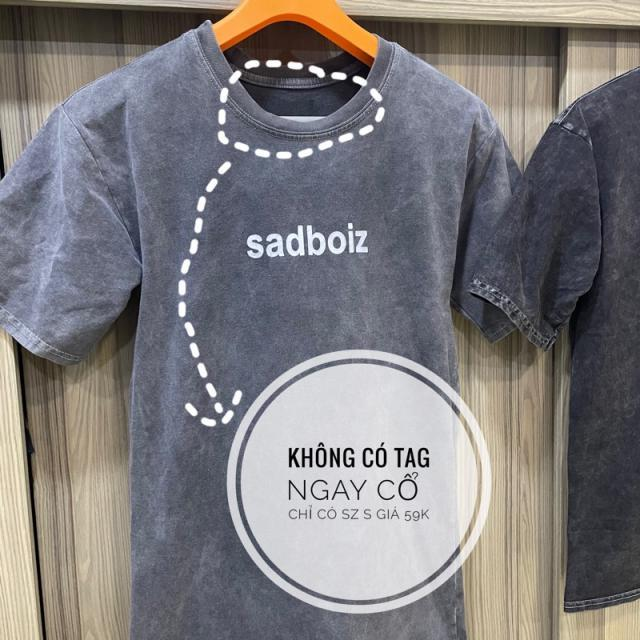Shirt: (0, 21, 541, 640), (462, 59, 640, 615)
